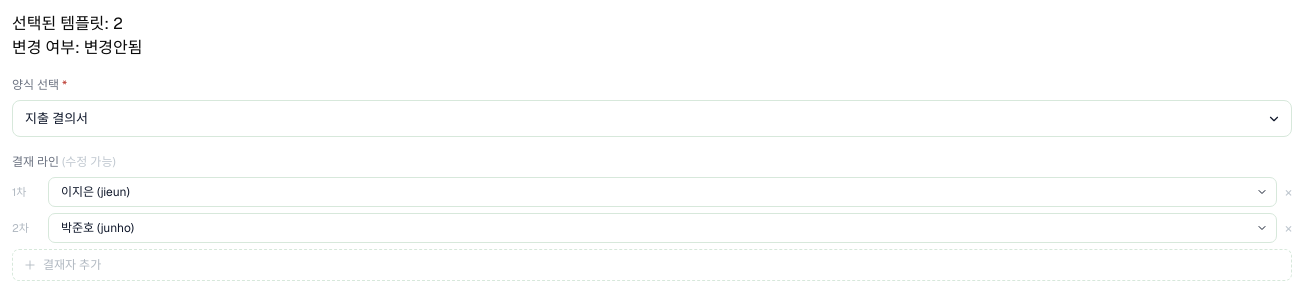
Test: ApprovalLine › 결재자를 삭제하면 결재선에서 제거하고 순서를 다시 매긴다
The width and height of the screenshot is (1304, 298).
Expected: the text "선택된 템플릿: 2" is shown, x1=12 y1=13 x2=123 y2=34
Click the button named "1차 결재자 삭제" at (1288,192), box x1=1285 y1=182 x2=1292 y2=202
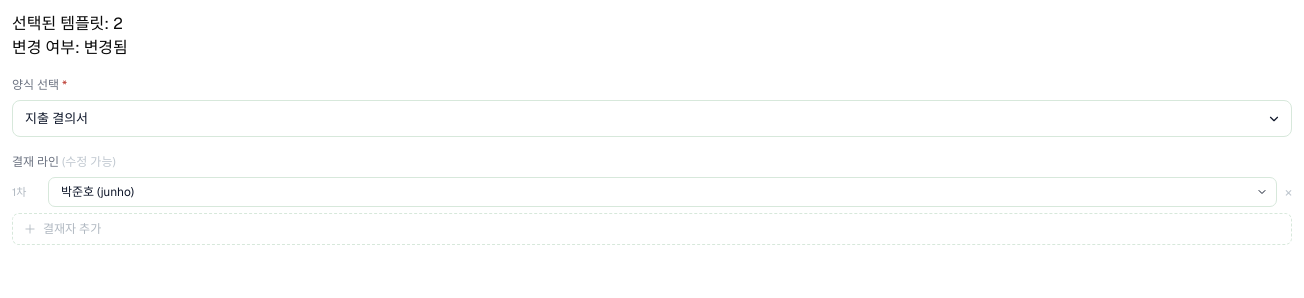
Result: the dropdown named "1차 결재자" shows "박준호 (junho)" at x1=49 y1=178 x2=1276 y2=206
Result: the text "변경 여부: 변경됨" is shown at x1=12 y1=37 x2=128 y2=58
